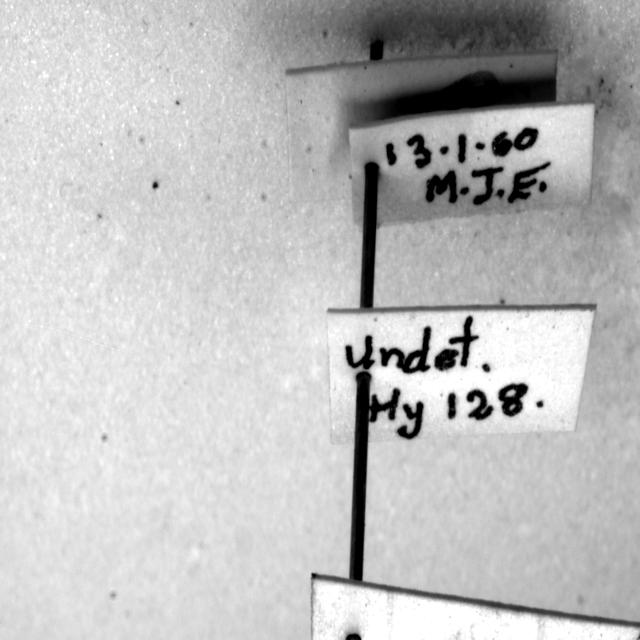hand_label: (326, 306, 595, 444), (349, 103, 595, 229)
